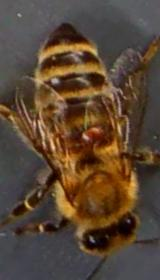varroa_mite: (74, 122, 110, 144)
